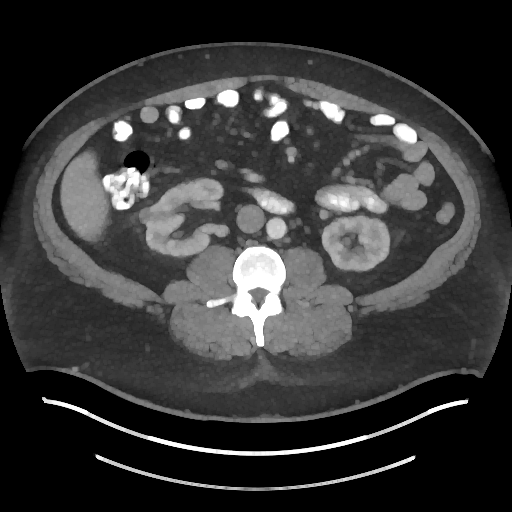Lesion: (136, 204, 155, 224)
